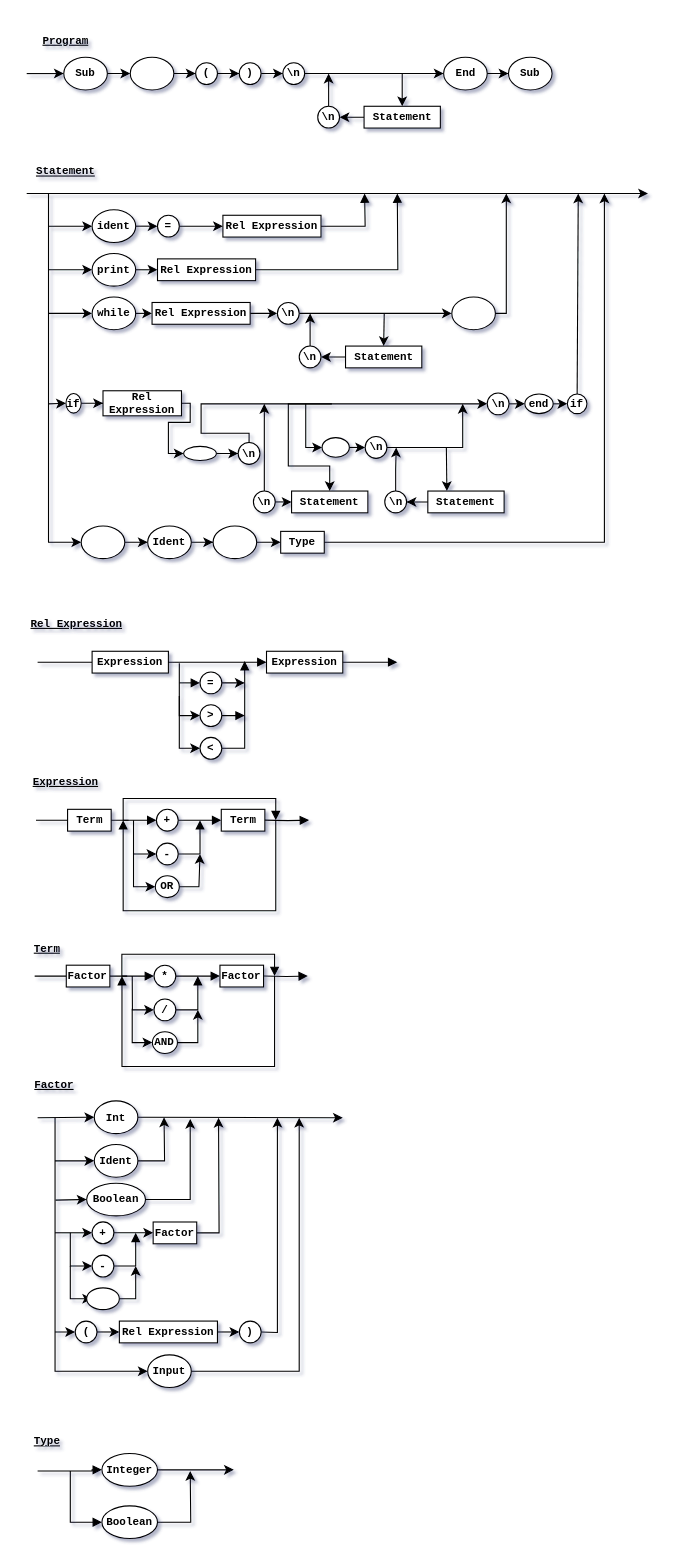
Some shapes in this 682 by 1564 pixel diagram are drawn without their labels. Here are the shapes that lost their labels. From the top down, the centre of each, then its label:
point (151, 73): Main
point (473, 313): wend
point (199, 453): then
point (335, 447): else
point (102, 542): Dim
point (234, 542): as
point (102, 1298): NOT
